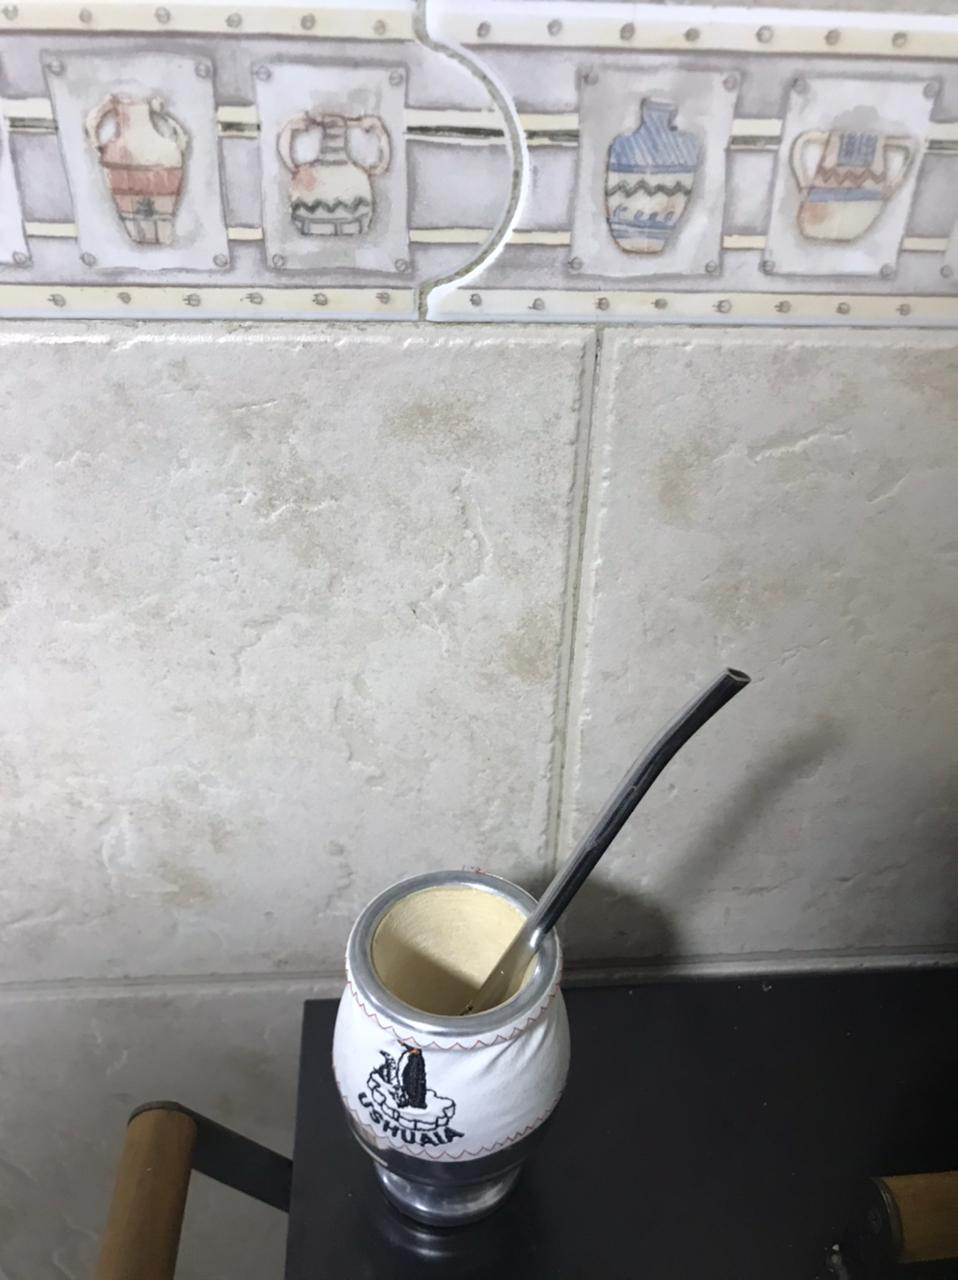mate: (305, 663, 758, 1238)
